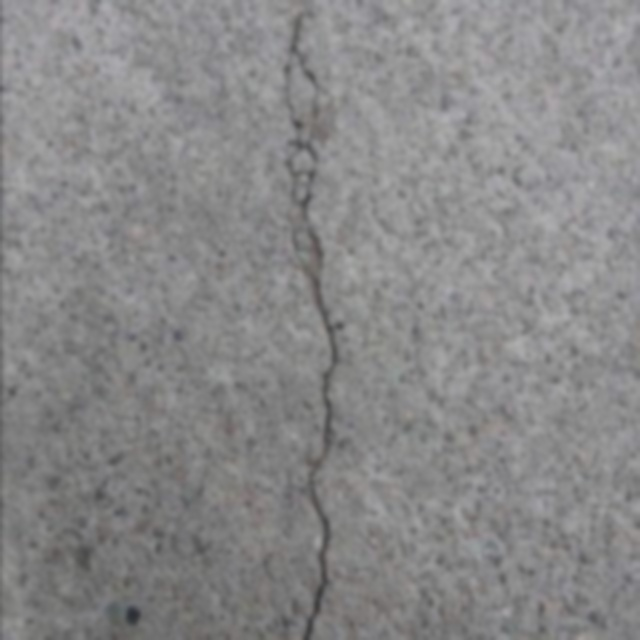SurfaceCrack: (220, 0, 402, 640)
